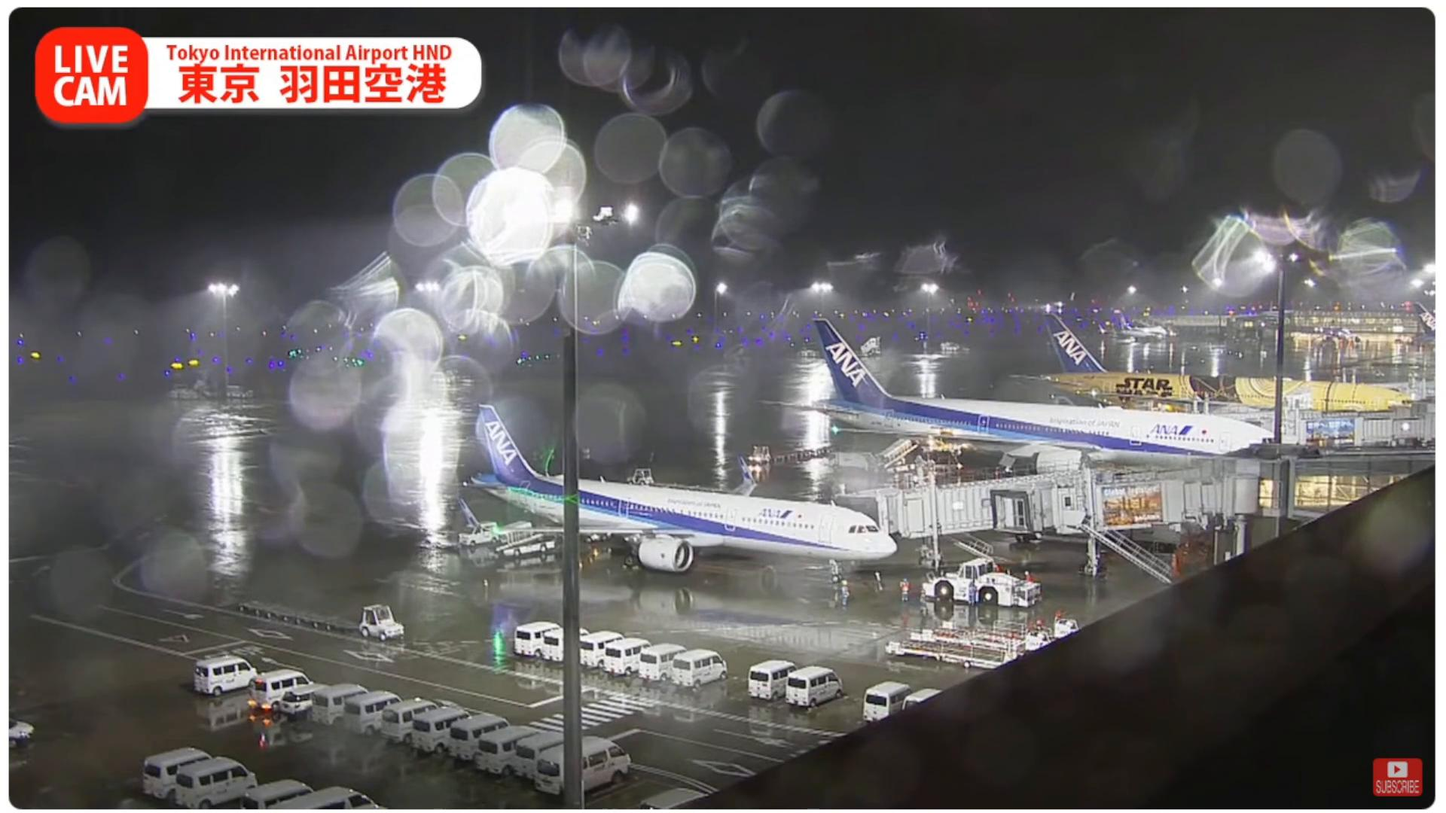APS: (921, 555, 1042, 608)
Aerobridge: (839, 461, 1195, 539), (988, 472, 1227, 537)
Airplane: (461, 406, 899, 585)
Baggage truck: (486, 519, 557, 559)
Dolly: (235, 599, 359, 631), (651, 479, 772, 496)
JCPL: (911, 618, 1081, 655), (884, 634, 1027, 672)
Tractor: (359, 608, 401, 638), (623, 467, 656, 485)
Window: (1291, 475, 1415, 508)
